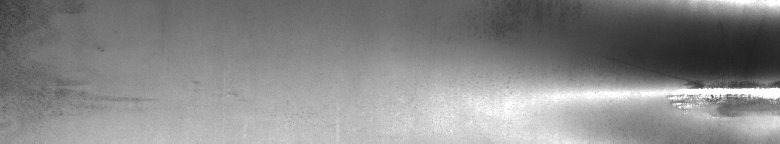ke: (542, 4, 776, 136)
